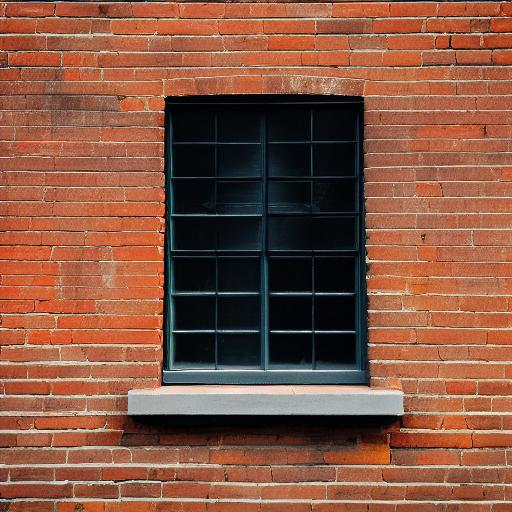Window: (125, 94, 410, 421)
